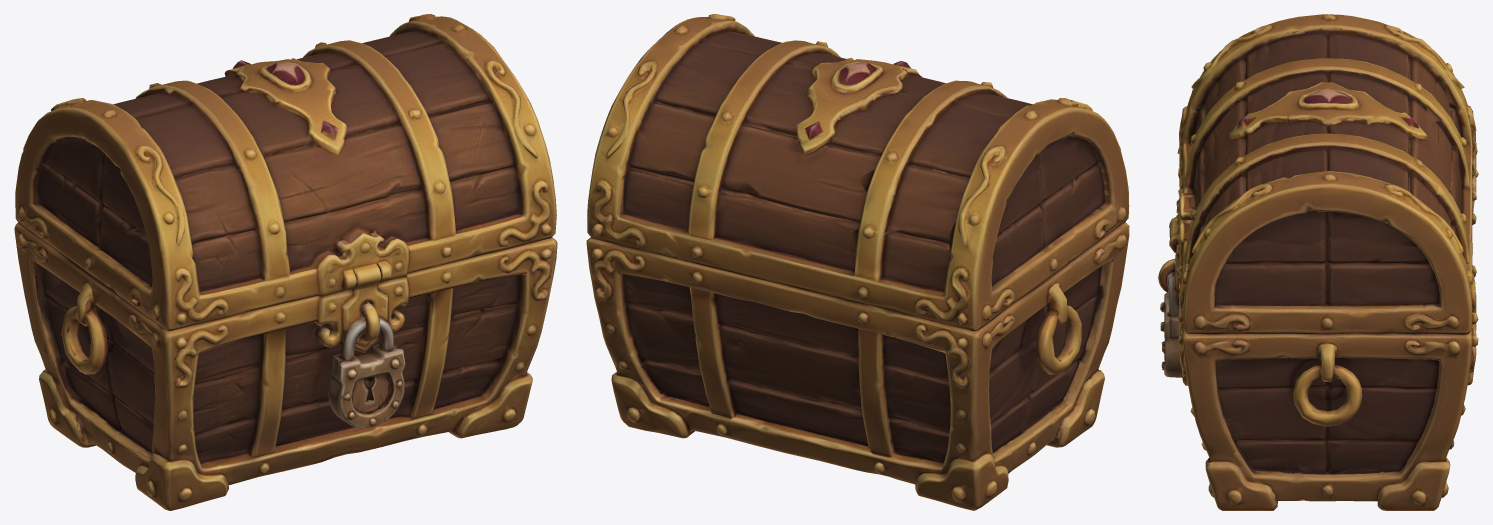
Rendered from chest.glb.
3 views of the same model, side by side, from view 1: azimuth 30°, elevation 25°; view 2: azimuth 150°, elevation 25°; view 3: azimuth 270°, elevation 25° (orthographic). The views are drawn at different scales.
Visible parts, largest first — view 1: tripo_node_b6d5f241-b34b-43df-9e97-a194f136044d; view 2: tripo_node_b6d5f241-b34b-43df-9e97-a194f136044d; view 3: tripo_node_b6d5f241-b34b-43df-9e97-a194f136044d.
Boxes of the visible parts, x1,y1,x2,y2 form: tripo_node_b6d5f241-b34b-43df-9e97-a194f136044d: (14, 14, 557, 510); tripo_node_b6d5f241-b34b-43df-9e97-a194f136044d: (586, 14, 1129, 510); tripo_node_b6d5f241-b34b-43df-9e97-a194f136044d: (1158, 14, 1478, 510).
Size of the model in its own units: 0.9803 by 0.8075 by 0.6897.
1 material, 1 textured.
